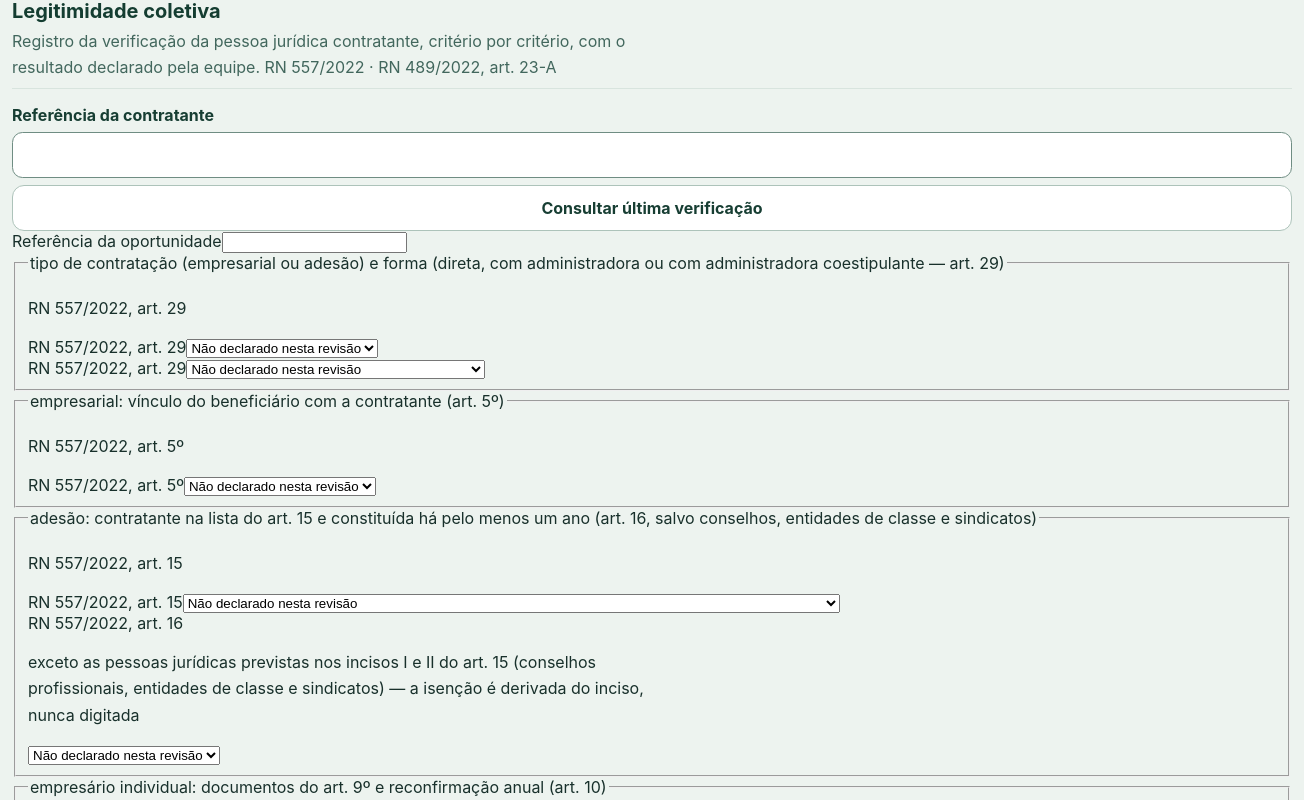
it: without a current screen the first record is a create, not a revalidation
Check: the heading "Legitimidade coletiva" is shown, box [12, 0, 221, 23]
Step 1. Type "pj-ref-1" into the field labelled "Referência da contratante" → (652, 155), box [12, 132, 1292, 178]
Step 2. Click the button "Consultar última verificação" → (652, 208), box [12, 184, 1292, 231]
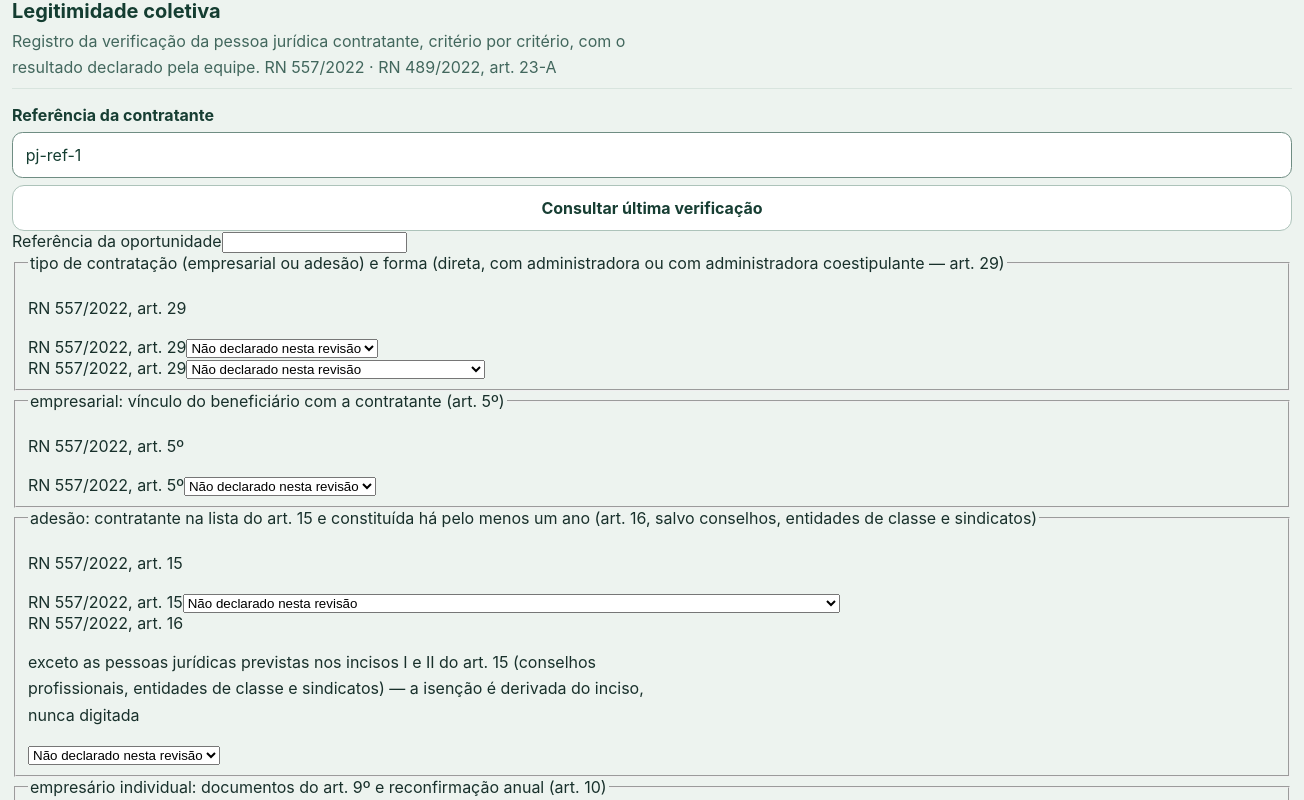
Step 3. Type "op-ref-1" into the field labelled "Referência da oportunidade" → (314, 242), box [222, 232, 407, 253]
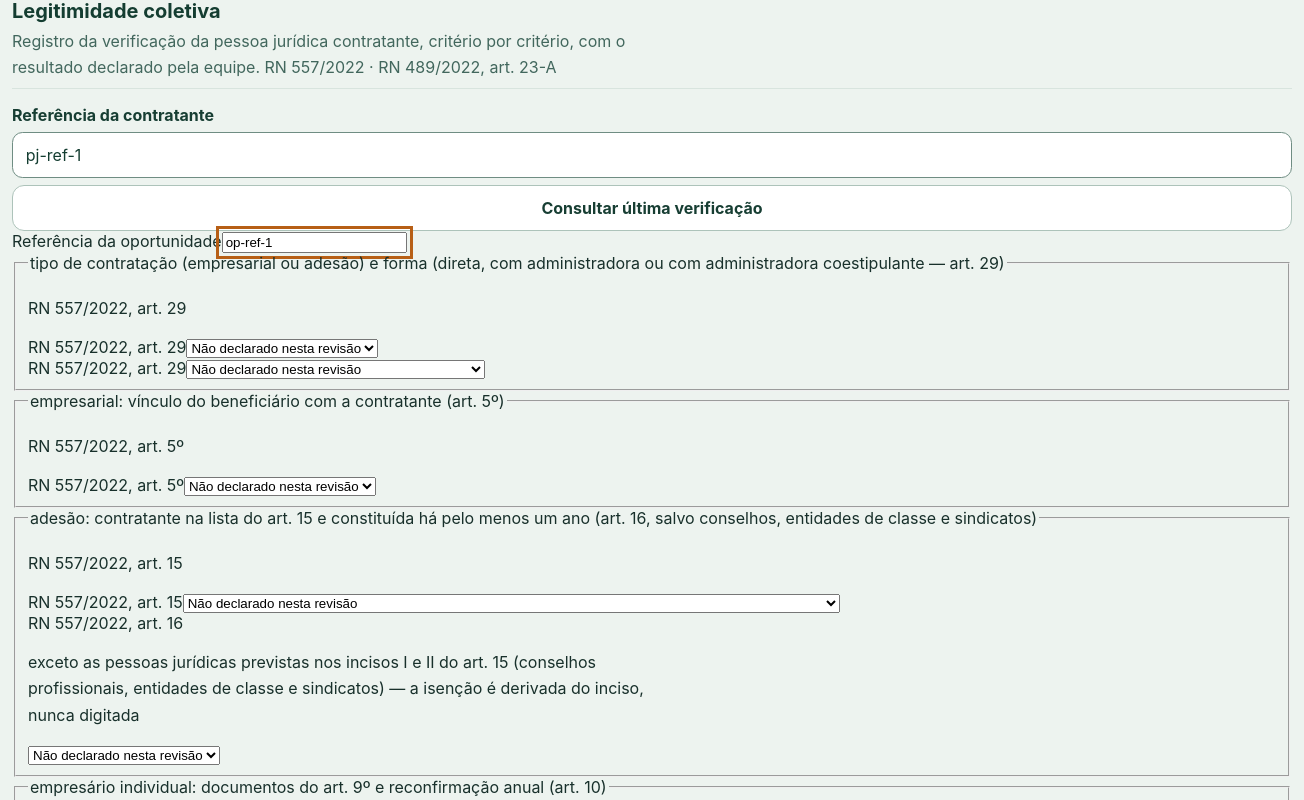
Step 4. Select "empresarial" in the 1st dropdown labelled "RN 557/2022, art. 29" → (282, 348), box [186, 339, 378, 358]
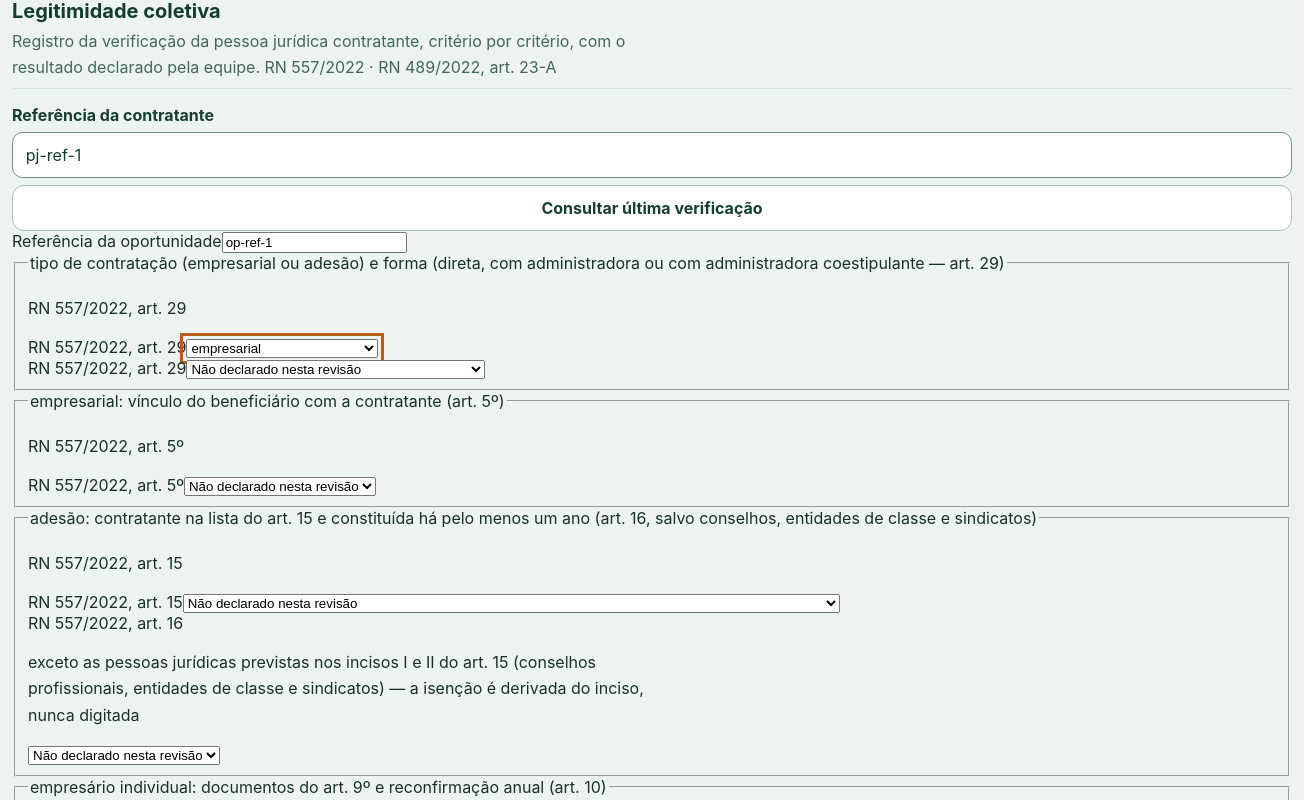
Step 5. Select "direta — art. 29, I" in the 2nd dropdown labelled "RN 557/2022, art. 29" → (336, 369), box [186, 360, 485, 379]
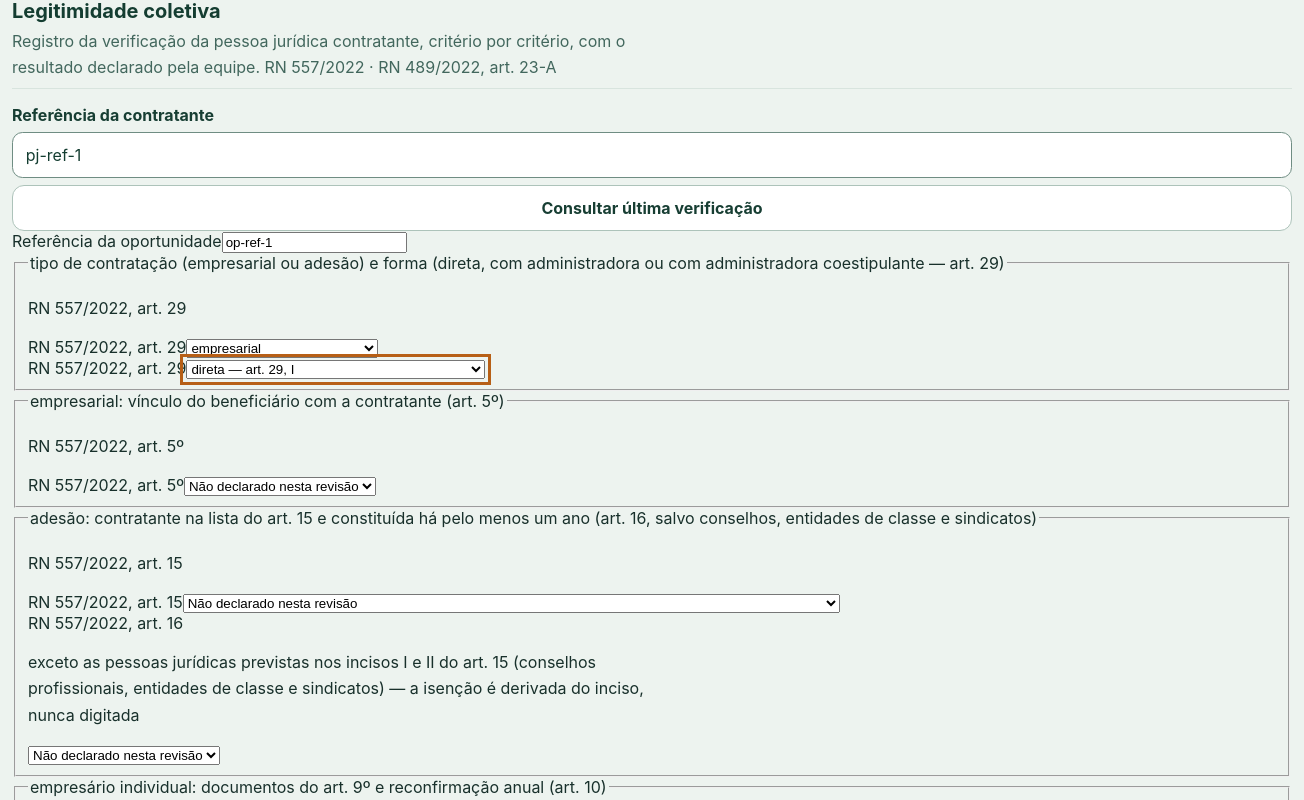
Step 6. Select "comprovado" in the dropdown labelled "RN 557/2022, art. 5º" → (280, 486), box [184, 477, 376, 496]
(page scrolled)
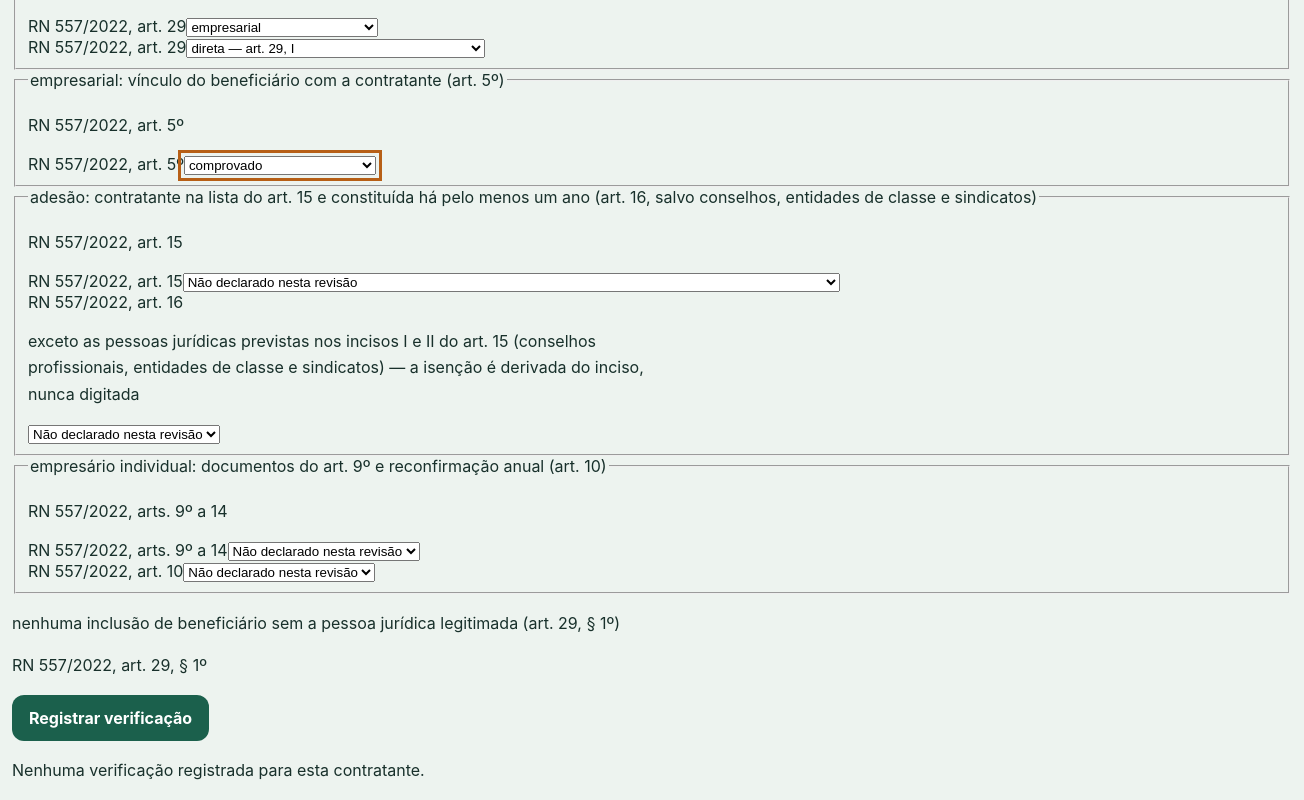
Step 7. Click the button "Registrar verificação" → (111, 718), box [12, 695, 209, 741]
(page scrolled)
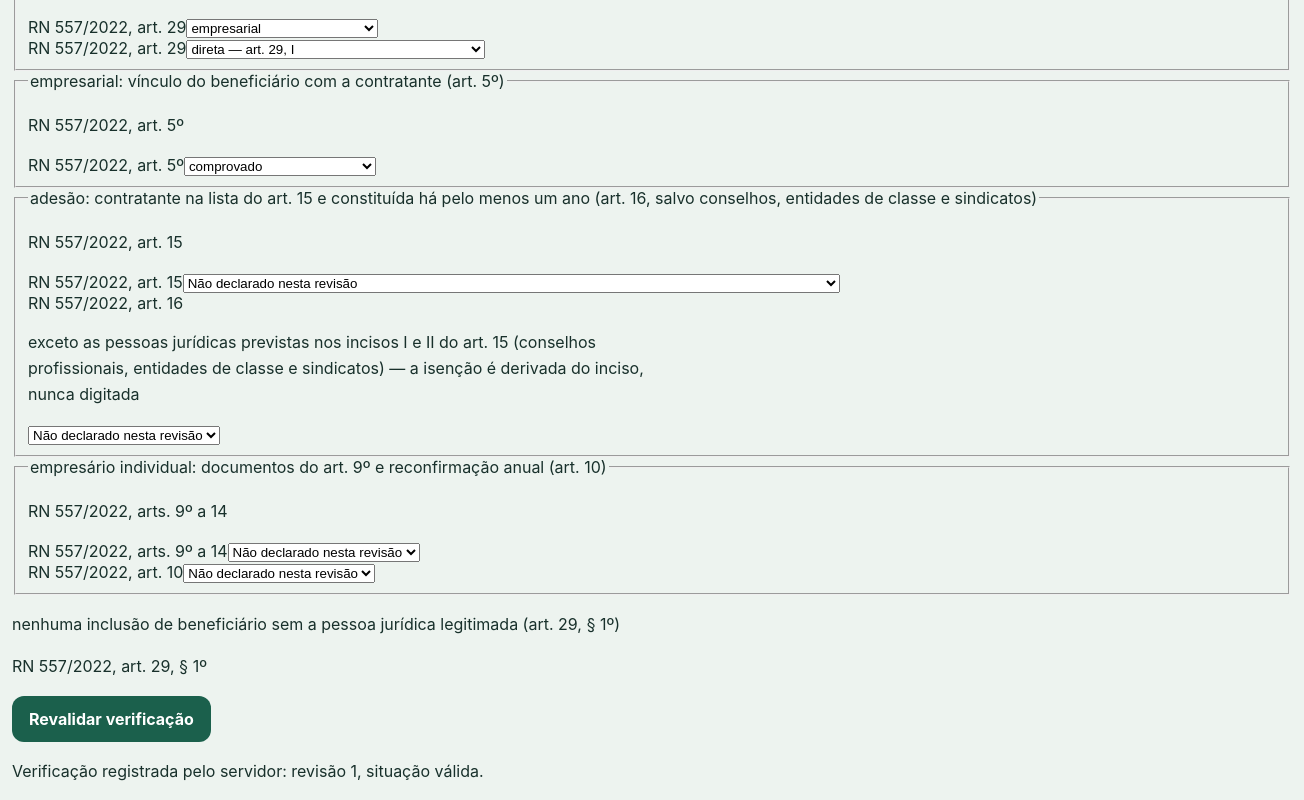
Check: the message shows "revisão 1, situação válida", box [12, 761, 484, 781]
